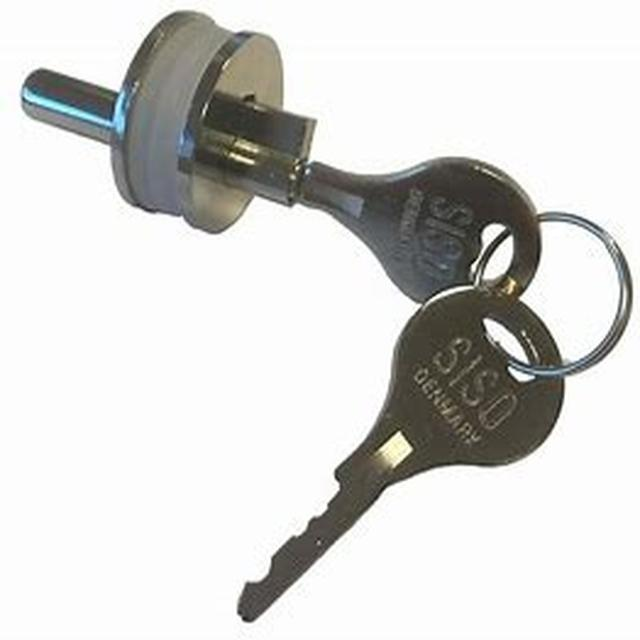key: (230, 282, 599, 638), (50, 29, 494, 292)
